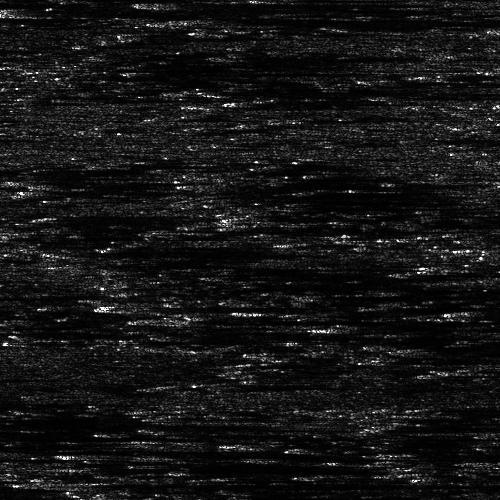object: (312, 414, 457, 439), (0, 475, 163, 490), (131, 14, 246, 27), (0, 3, 68, 22), (142, 379, 257, 388), (283, 321, 366, 332), (423, 307, 496, 318), (223, 96, 296, 105), (119, 0, 182, 7), (137, 319, 220, 324), (423, 263, 476, 270), (196, 55, 237, 60)
shadow: (27, 3, 500, 22), (59, 475, 430, 490), (188, 14, 500, 27), (385, 414, 500, 439), (0, 432, 419, 437), (151, 0, 426, 7), (260, 96, 426, 105), (325, 321, 451, 332), (199, 379, 328, 388), (0, 422, 197, 427), (216, 55, 384, 60), (459, 307, 500, 318), (449, 263, 500, 270), (179, 319, 239, 324)
